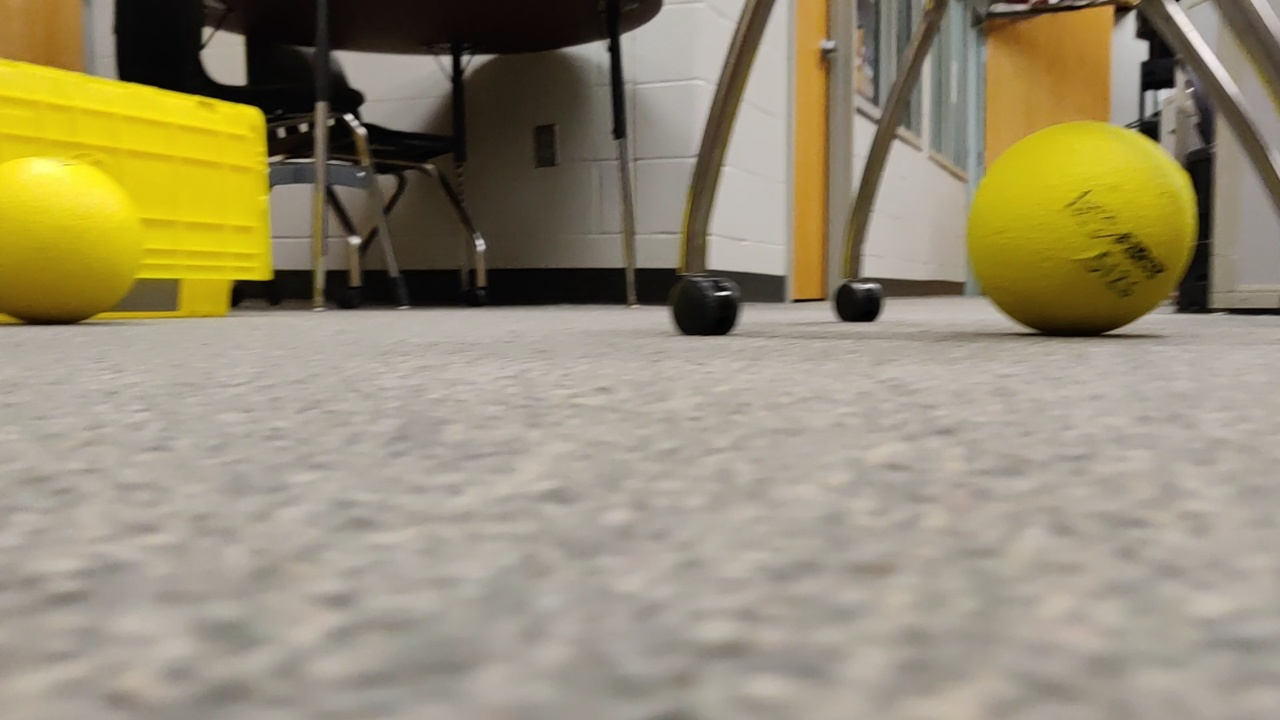Ball: (950, 104, 1196, 334), (1, 152, 147, 316)
